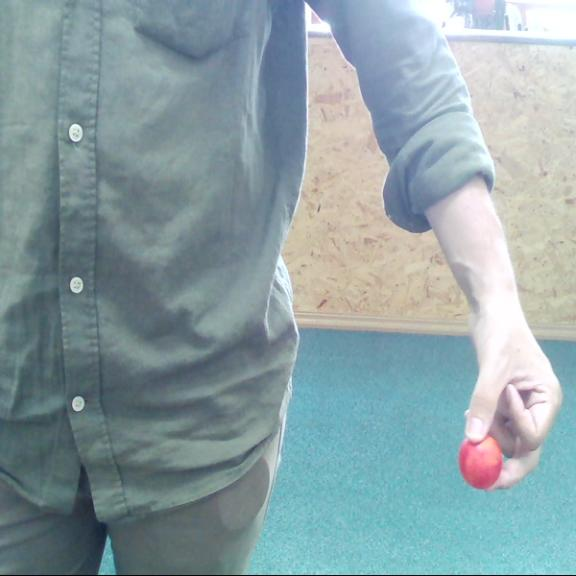ball: (458, 435, 504, 490)
